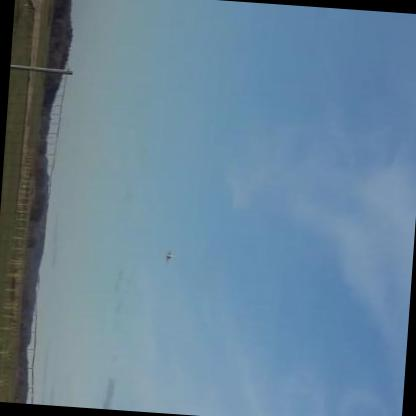plane: (163, 251, 174, 265)
